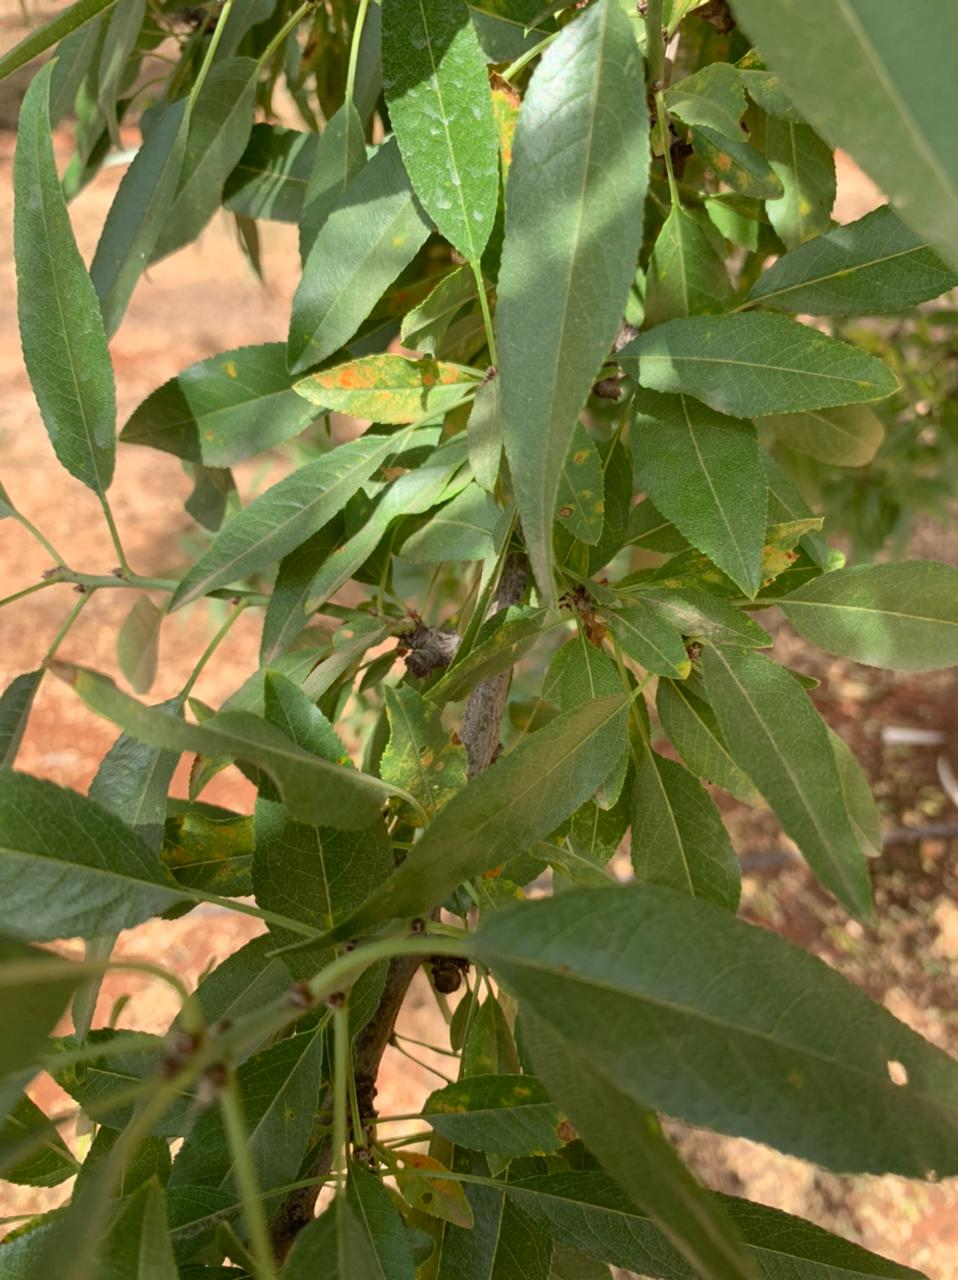polystigma: (293, 348, 490, 425), (371, 1140, 474, 1227)
